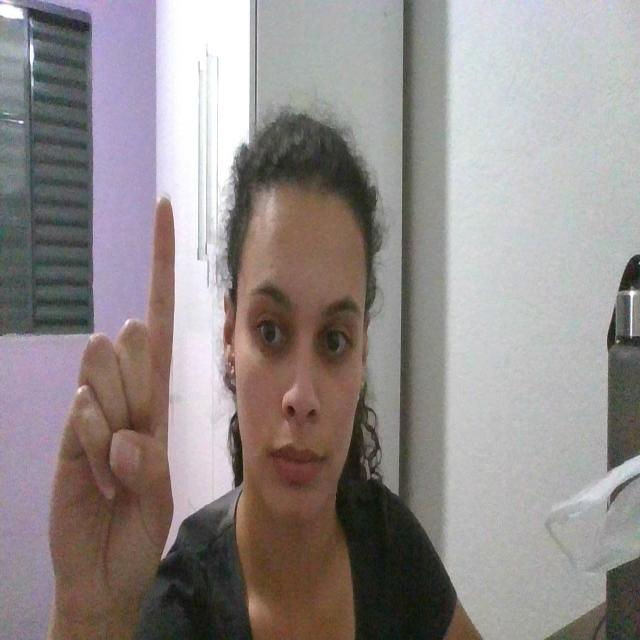D2: (45, 180, 184, 608)
